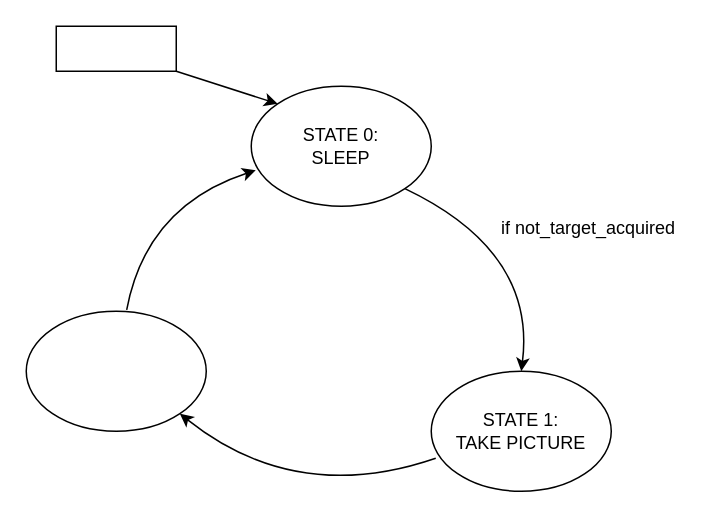
The diagram is 728 pixels wide and 518 high, and some of its shapes have lost their labels. The centre of each missing label's shape, as x and y in pixels:
START: the point at 115,48
STATE 2: PROCESS DATA: the point at 115,370
